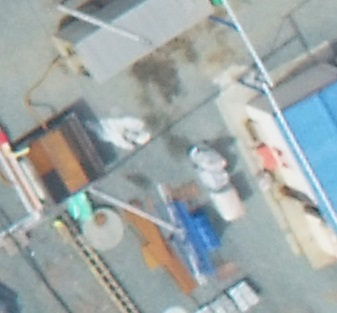opora: (91, 186, 186, 241), (58, 3, 154, 49)
